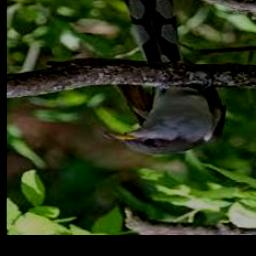Cuckoo: (103, 0, 226, 156)
